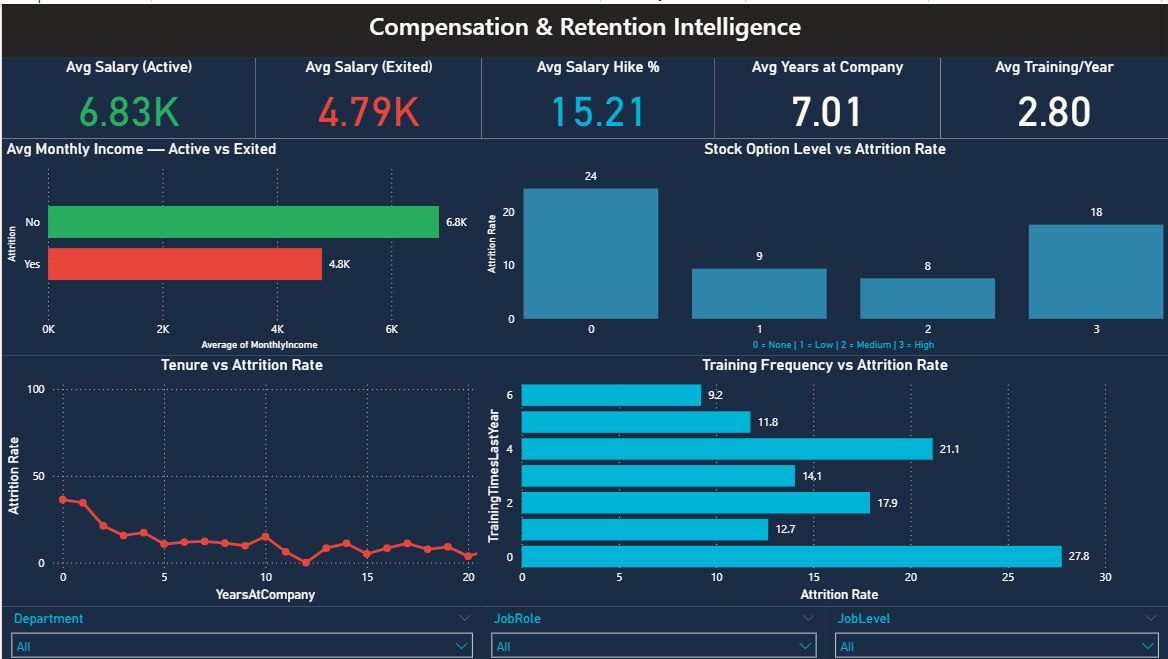

The dashboard page shown, as its layout file describes it:
{"tool":"powerbi","page":{"name":"Compensation & Retention Intelligence","canvas":[1280,720],"ordinal":2},"visuals":[{"type":"textbox","box":[0,0,1280.3,59],"z":0},{"type":"card","title":"Avg Salary (Active)","fields":{"Values":["HR.Avg Income Active"]},"box":[0,59,278.6,89.2],"z":1},{"type":"card","title":"Avg Salary (Exited)","fields":{"Values":["HR.Avg Income Left"]},"box":[278.6,59,248.4,89.2],"z":2},{"type":"card","title":"Avg Salary Hike %","fields":{"Values":["HR.Avg Salary Hike"]},"box":[526.9,59,255.2,89.2],"z":3},{"type":"card","title":"Avg Years at Company","fields":{"Values":["HR.Avg Tenure"]},"box":[782.2,59,248.4,89.2],"z":4},{"type":"card","title":"Avg Training/Year","fields":{"Values":["HR.Avg Training"]},"box":[1030.5,59,249.7,89.2],"z":5},{"type":"clusteredBarChart","title":"Avg Monthly Income — Active vs Exited","fields":{"Category":["HR.Attrition"],"Y":["Avg(HR.MonthlyIncome)"]},"box":[0,148.2,526.9,237.4],"z":6},{"type":"clusteredColumnChart","title":"Stock Option Level vs Attrition Rate","fields":{"Category":["HR.StockOptionLevel"],"Y":["HR.Attrition Rate"]},"box":[526.9,148.2,753.3,237.4],"z":7},{"type":"lineChart","title":"Tenure vs Attrition Rate","fields":{"Category":["HR.YearsAtCompany"],"Y":["HR.Attrition Rate"]},"box":[0,385.6,526.9,275.8],"z":8},{"type":"clusteredBarChart","title":"Training Frequency vs Attrition Rate","fields":{"Category":["HR.TrainingTimesLastYear"],"Y":["HR.Attrition Rate"]},"box":[526.9,385.6,753.3,275.8],"z":9},{"type":"slicer","fields":{"Values":["HR.Department"]},"box":[0,661.4,526.9,59],"z":10},{"type":"slicer","fields":{"Values":["HR.JobRole"]},"box":[526.9,661.4,377.4,59],"z":11},{"type":"slicer","fields":{"Values":["HR.JobLevel"]},"box":[904.3,661.4,376,59],"z":12}]}

Visuals, with their boxes in screenshot pixels (x1, y1, x2, y2), scaled from the page's 1280x720 canvas onto the 1168x659 screenshot:
textbox: pyautogui.locateOnScreen(0, 0, 1167, 54)
"Avg Salary (Active)" card: pyautogui.locateOnScreen(0, 54, 254, 136)
"Avg Salary (Exited)" card: pyautogui.locateOnScreen(254, 54, 481, 136)
"Avg Salary Hike %" card: pyautogui.locateOnScreen(481, 54, 714, 136)
"Avg Years at Company" card: pyautogui.locateOnScreen(714, 54, 940, 136)
"Avg Training/Year" card: pyautogui.locateOnScreen(940, 54, 1167, 136)
"Avg Monthly Income — Active vs Exited" clusteredBarChart: pyautogui.locateOnScreen(0, 136, 481, 353)
"Stock Option Level vs Attrition Rate" clusteredColumnChart: pyautogui.locateOnScreen(481, 136, 1167, 353)
"Tenure vs Attrition Rate" lineChart: pyautogui.locateOnScreen(0, 353, 481, 605)
"Training Frequency vs Attrition Rate" clusteredBarChart: pyautogui.locateOnScreen(481, 353, 1167, 605)
slicer - HR.Department: pyautogui.locateOnScreen(0, 605, 481, 658)
slicer - HR.JobRole: pyautogui.locateOnScreen(481, 605, 825, 658)
slicer - HR.JobLevel: pyautogui.locateOnScreen(825, 605, 1167, 658)
